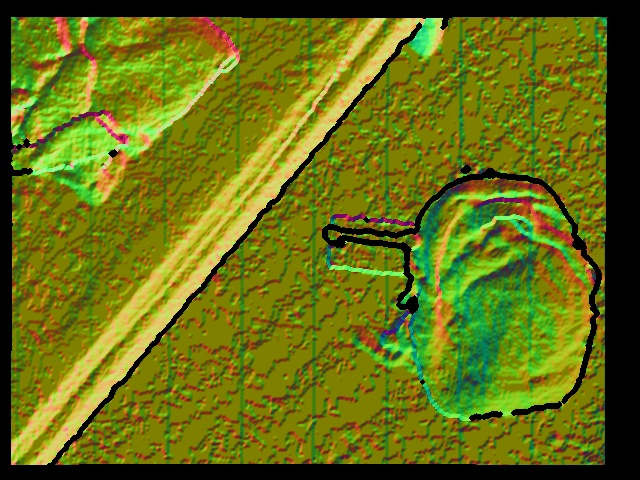station: (324, 216, 419, 276)
